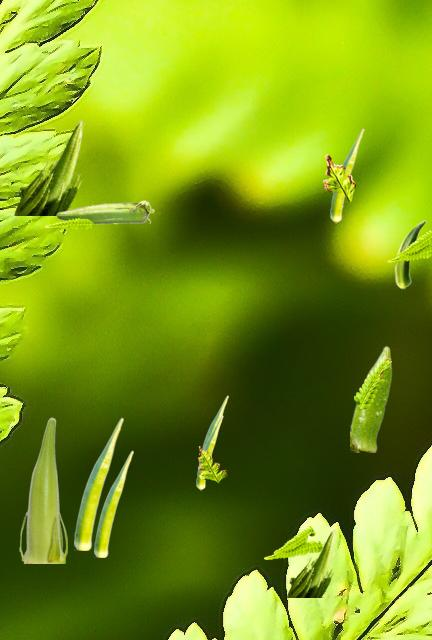okra: (18, 417, 66, 562), (13, 119, 84, 214), (74, 417, 122, 549), (350, 345, 391, 451), (94, 450, 132, 556), (286, 529, 335, 596), (330, 128, 363, 222), (56, 200, 153, 223), (394, 220, 425, 288), (198, 395, 227, 463), (196, 415, 222, 489)
